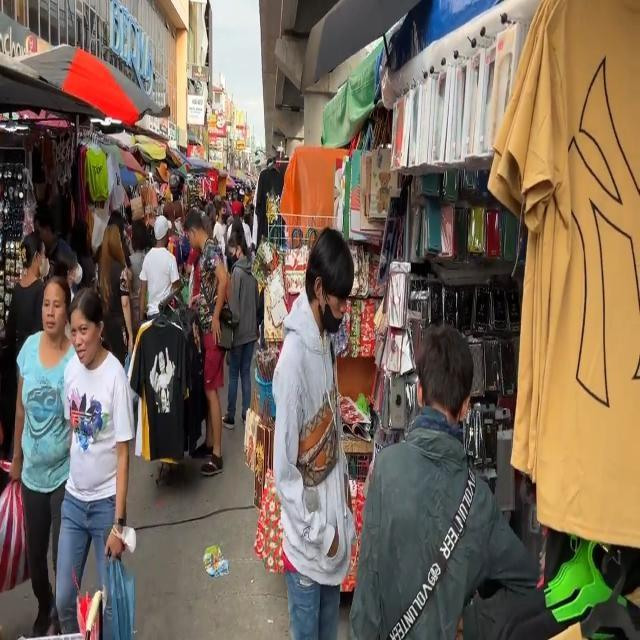hairnet: (314, 273, 348, 333)
